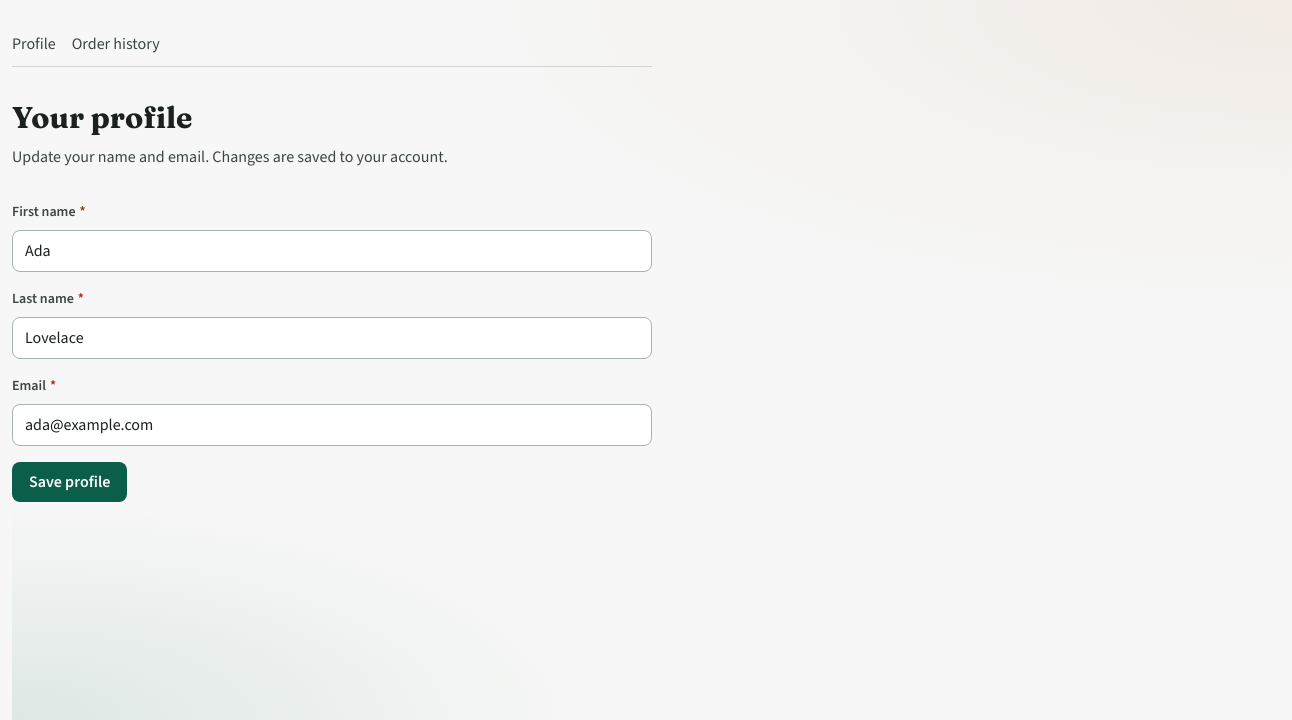
Test: ProfilePage › validates required fields before saving
Clear the field labelled "First name*": (332, 250) x1=12 y1=230 x2=652 y2=272
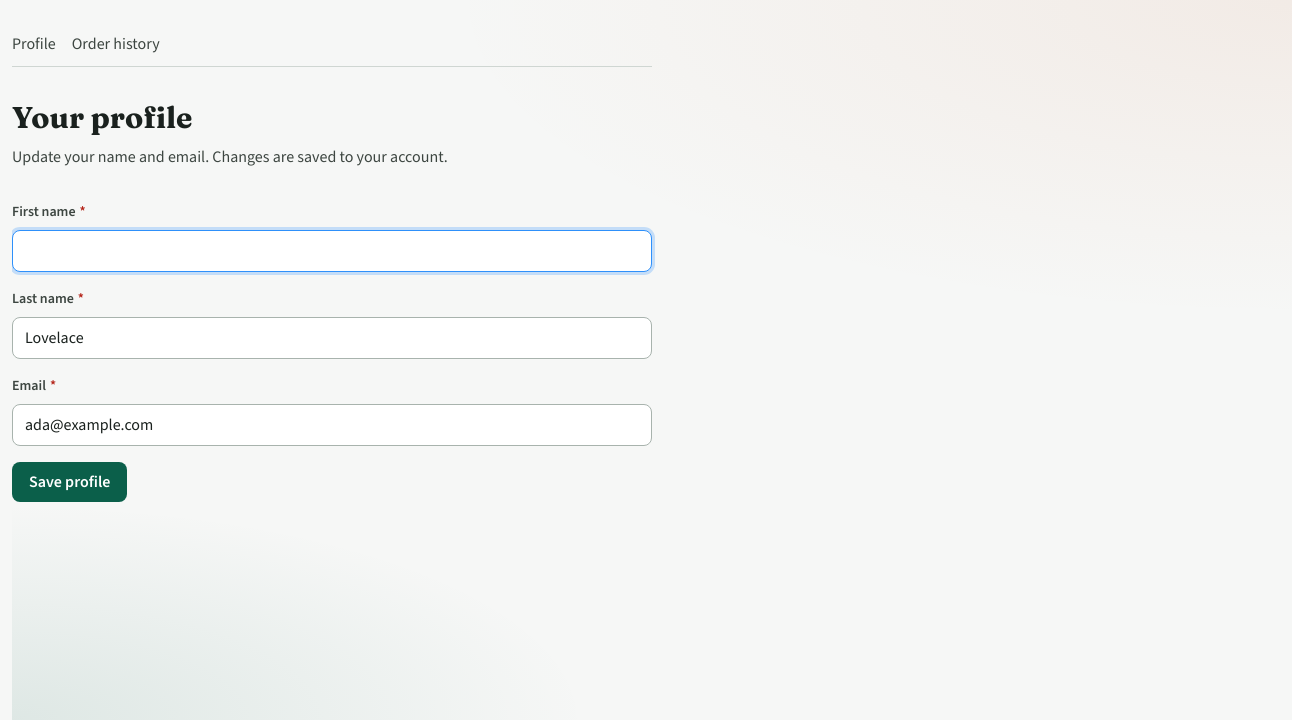
Click the button "Save profile": (70, 482) x1=12 y1=462 x2=127 y2=502
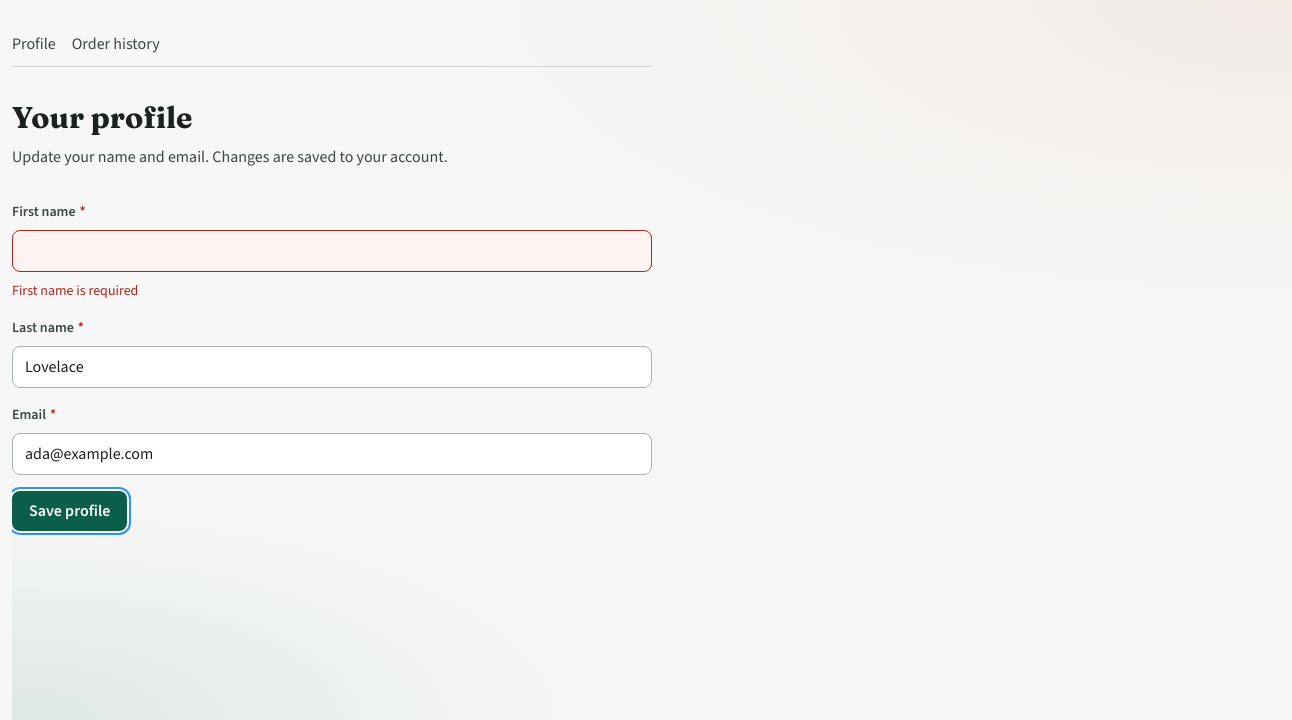
Expected: the message reads "First name is required", x1=12 y1=280 x2=138 y2=300
